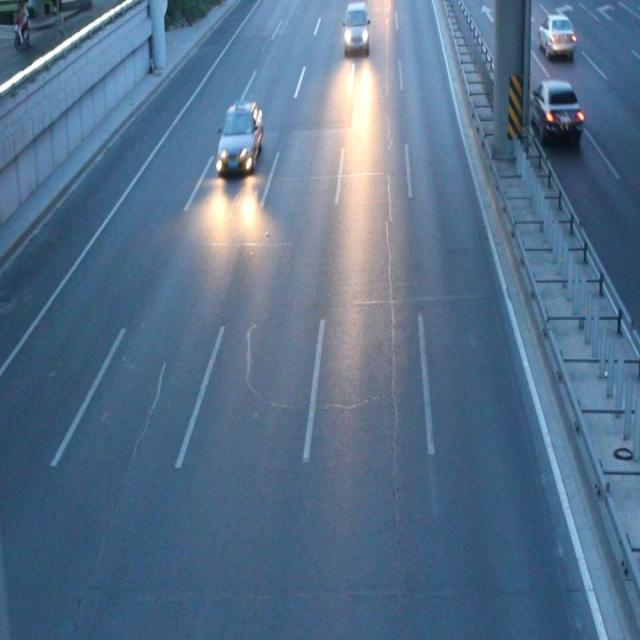car: (216, 102, 262, 173), (343, 1, 370, 55)
